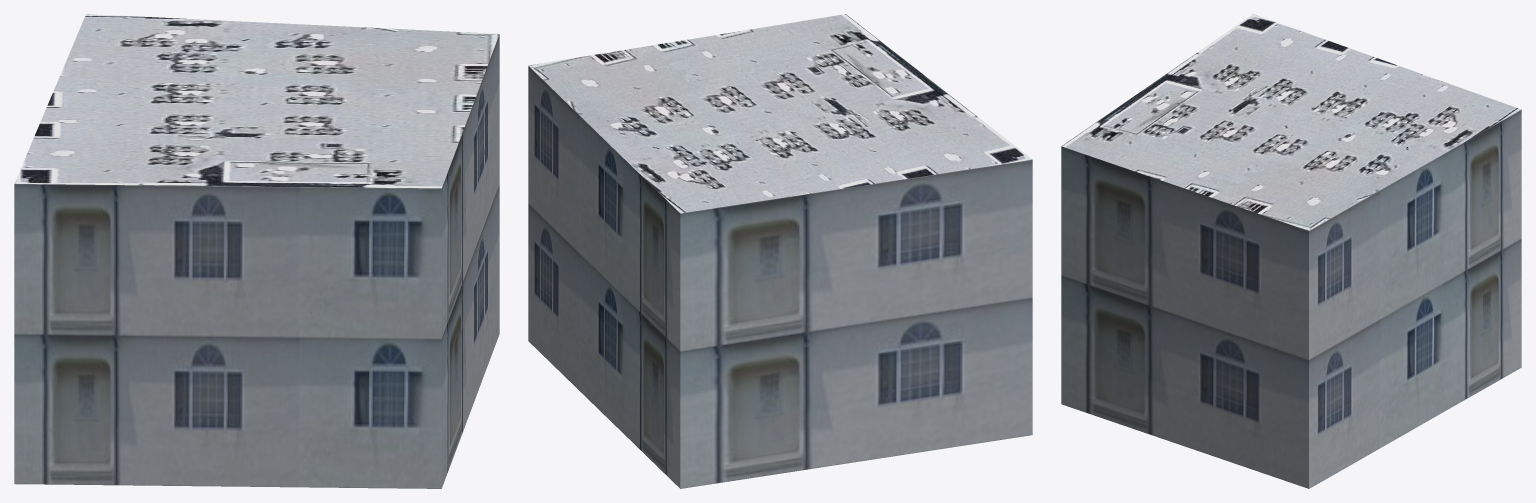
Rendered from ResTex__2132.fbx.
The picture shows the model from 3 angles, left to right: view 1: azimuth 30°, elevation 25°; view 2: azimuth 150°, elevation 25°; view 3: azimuth 270°, elevation 25°; orthographic projection. The views are drawn at different scales.
Parts seen in each view (by area): view 1: CityEngineMaterial_17_m, CityEngineMaterial_8_m; view 2: CityEngineMaterial_17_m, CityEngineMaterial_8_m; view 3: CityEngineMaterial_17_m, CityEngineMaterial_8_m.
Part boxes in pixels (x1,y1,x2,y2): CityEngineMaterial_17_m: (14,34,499,488); CityEngineMaterial_8_m: (14,14,499,188); CityEngineMaterial_17_m: (528,66,1032,488); CityEngineMaterial_8_m: (528,14,1032,213); CityEngineMaterial_17_m: (1061,110,1521,488); CityEngineMaterial_8_m: (1061,14,1521,230).
Size of the model in its own units: 10.82 by 6 by 9.71.
2 materials, 2 textured.
